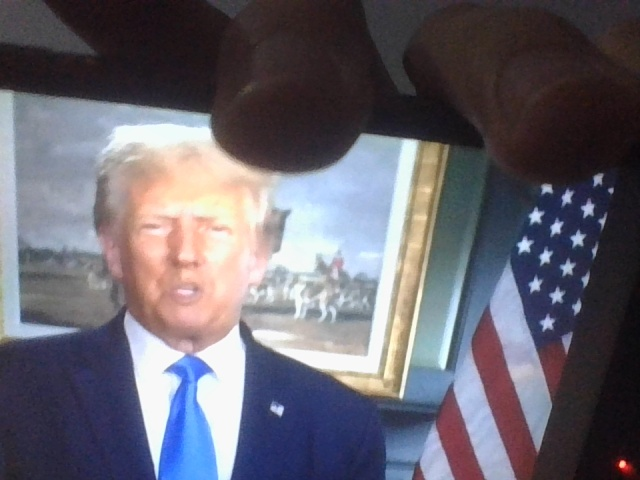fake: (115, 127, 266, 341)
